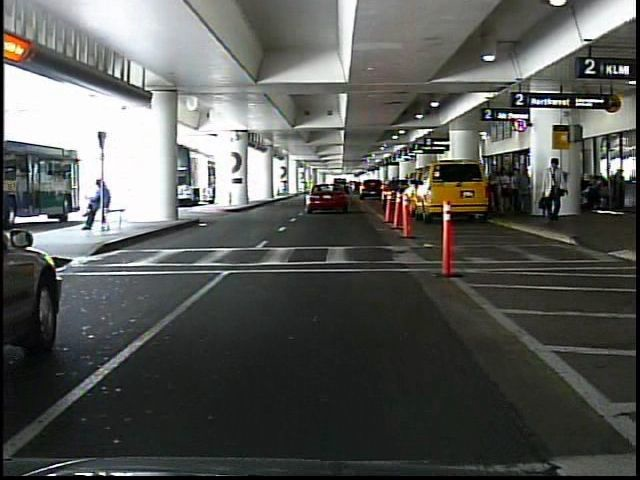person: (539, 157, 569, 225), (515, 163, 534, 219), (498, 165, 514, 217)
